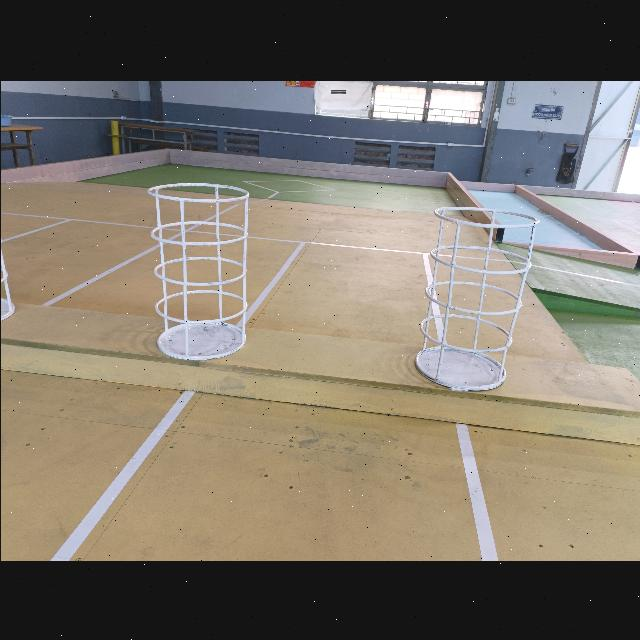S: (410, 204, 537, 392), (146, 180, 248, 360)
